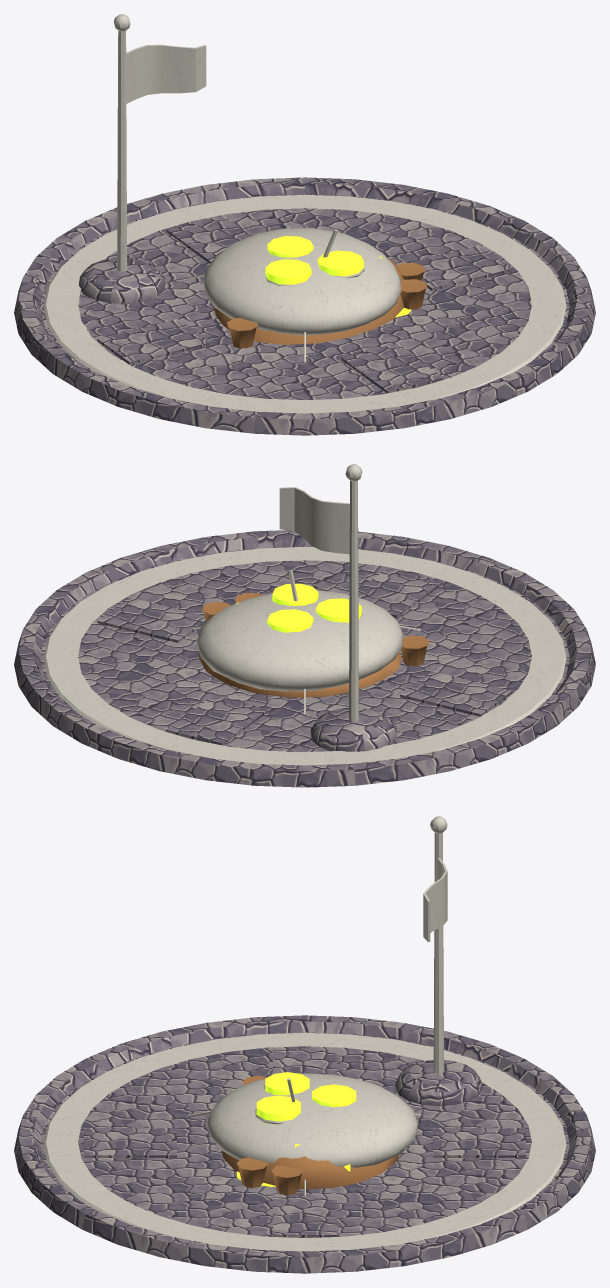
File: resource_point_tertiary.glb
3 renders of one model, top to bottom at view 1: azimuth 30°, elevation 25°; view 2: azimuth 150°, elevation 25°; view 3: azimuth 270°, elevation 25°, orthographic.
Visible parts, largest first — view 1: Base, State_Neutral, Flag, State_Plants, State_Zombies, Pole; view 2: Base, State_Neutral, Flag, State_Plants, Pole, State_Zombies; view 3: Base, State_Neutral, State_Plants, State_Zombies, Pole, Flag.
Part boxes in pixels (<box>): Base: <box>14,177,595,435</box>; State_Neutral: <box>43,194,566,413</box>; Flag: <box>126,44,206,103</box>; State_Plants: <box>213,229,427,348</box>; State_Zombies: <box>265,236,411,317</box>; Pole: <box>114,14,130,271</box>; Base: <box>14,530,595,787</box>; State_Neutral: <box>43,546,566,765</box>; Flag: <box>279,487,349,554</box>; State_Plants: <box>198,570,429,697</box>; Pole: <box>345,464,362,721</box>; State_Zombies: <box>235,583,362,632</box>; Base: <box>14,1015,595,1273</box>; State_Neutral: <box>43,1032,566,1251</box>; State_Plants: <box>221,1075,398,1195</box>; State_Zombies: <box>237,1072,356,1186</box>; Pole: <box>430,816,447,1073</box>; Flag: <box>423,858,447,941</box>.
Size of the model in its own units: 10 by 5.25 by 10.
4 materials, 2 textured.
